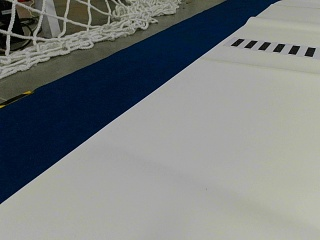crosswalk: (230, 37, 318, 57)
